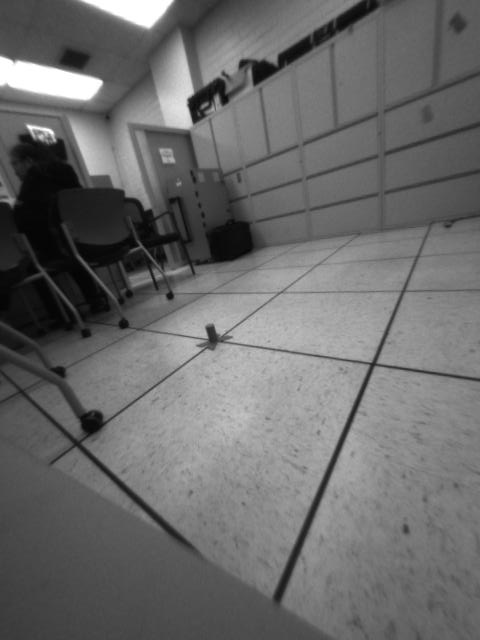X: (195, 322, 232, 351)
